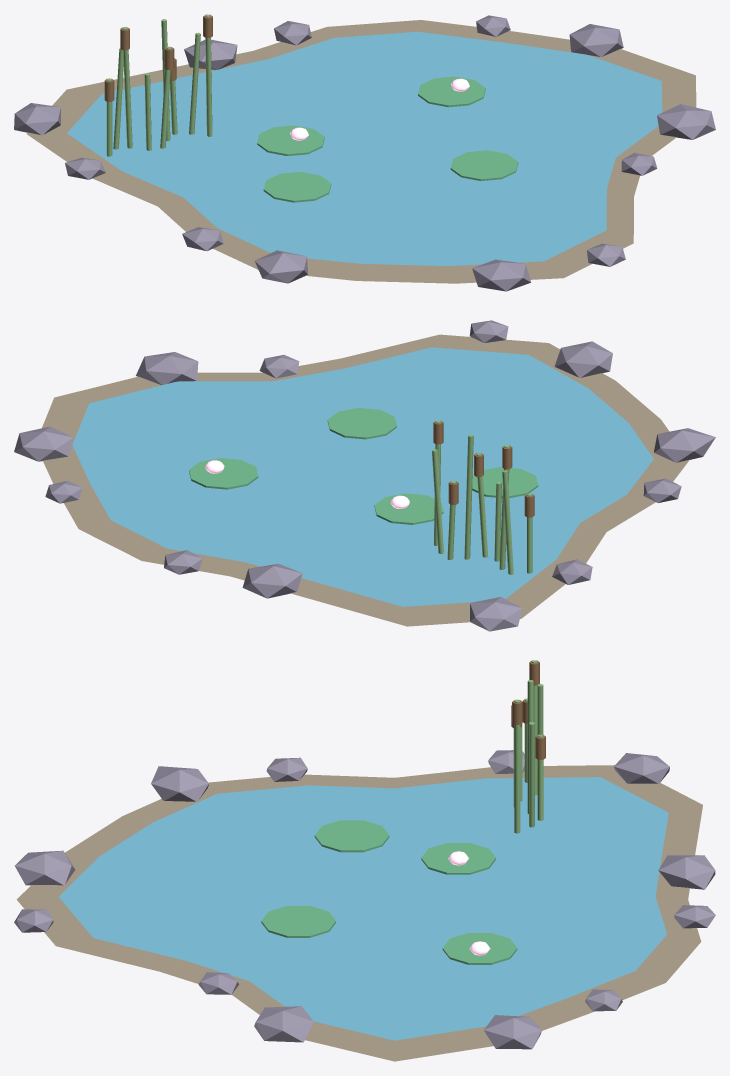
The model's file is pond.glb.
3 views of the same model, one above another, from view 1: azimuth 30°, elevation 25°; view 2: azimuth 150°, elevation 25°; view 3: azimuth 270°, elevation 25° (orthographic). The views are drawn at different scales.
Visible parts, largest first — view 1: Pond.001; view 2: Pond.001; view 3: Pond.001.
Boxes of the visible parts, x1,y1,x2,y2 form: Pond.001: (14, 14, 715, 291); Pond.001: (14, 320, 715, 631); Pond.001: (14, 660, 715, 1061).
Bounding box in the file's own units: 6.73 × 1.4 × 6.59.
